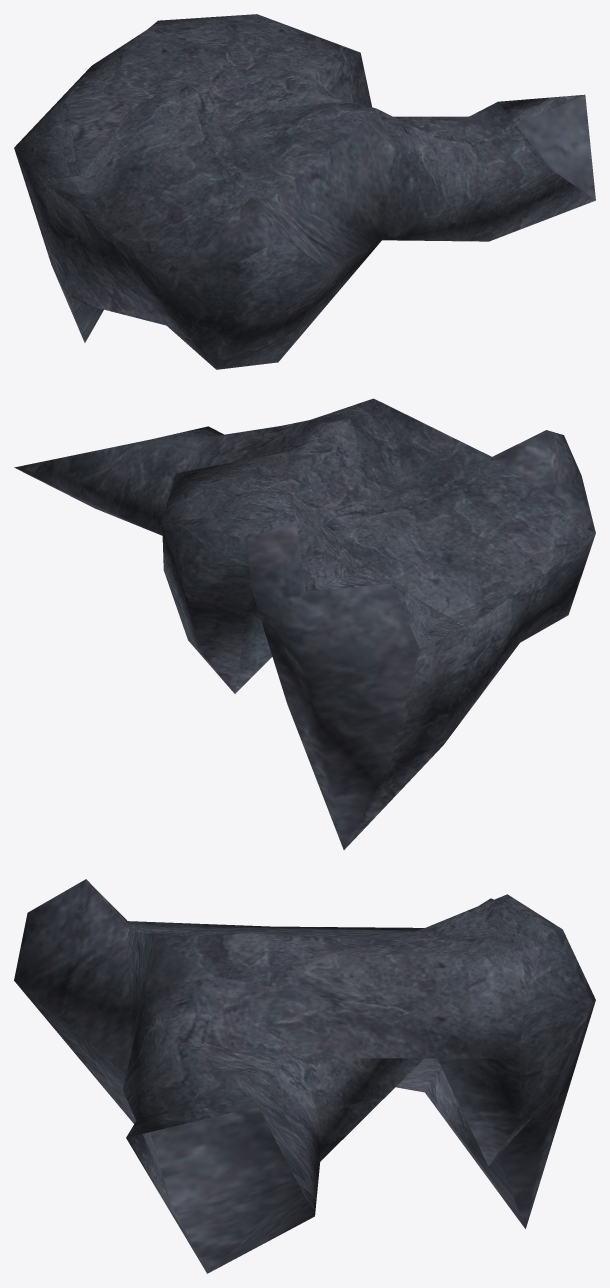
Rendered from tlfb2_duanmian02.FBX.
The picture shows the model from 3 angles, top to bottom: view 1: azimuth 30°, elevation 25°; view 2: azimuth 150°, elevation 25°; view 3: azimuth 270°, elevation 25°; orthographic projection. The views are drawn at different scales.
Visible parts, largest first — view 1: tlfb2_duanmian02; view 2: tlfb2_duanmian02; view 3: tlfb2_duanmian02.
Boxes of the visible parts, bbox=[...] form: tlfb2_duanmian02: bbox=[14, 14, 595, 369]; tlfb2_duanmian02: bbox=[14, 398, 595, 849]; tlfb2_duanmian02: bbox=[14, 879, 595, 1273].
Bounding box in the file's own units: 1420 × 834 × 1198.
